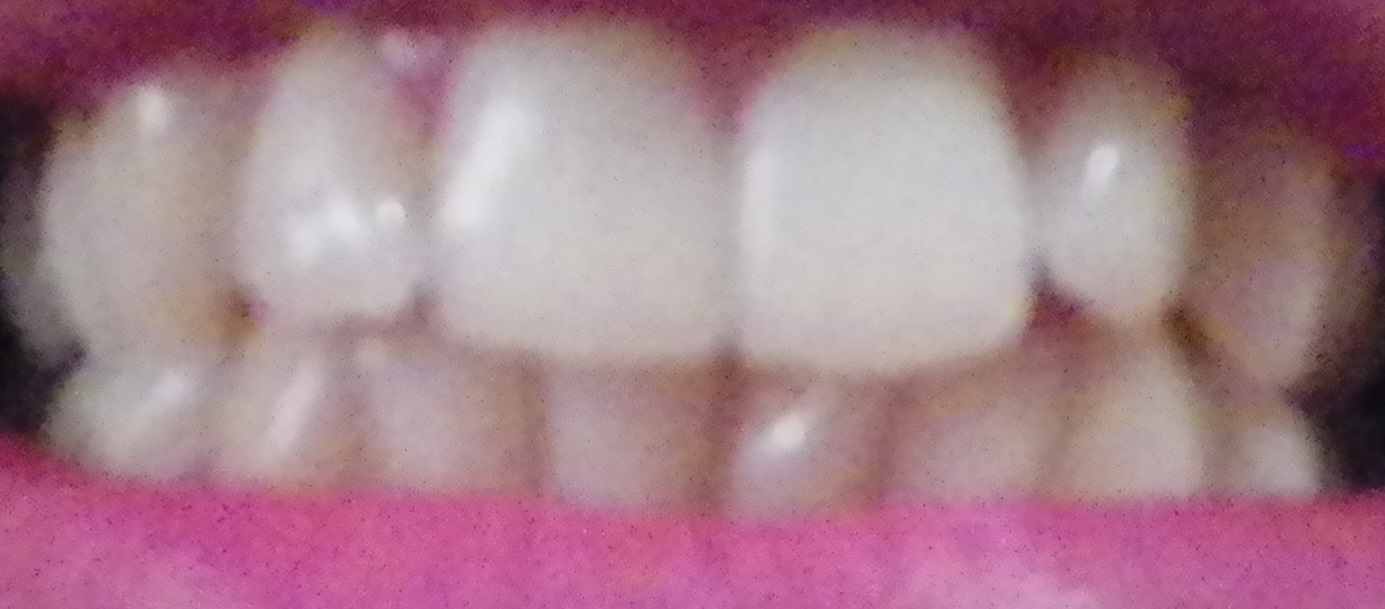boca: (24, 31, 1367, 506)
